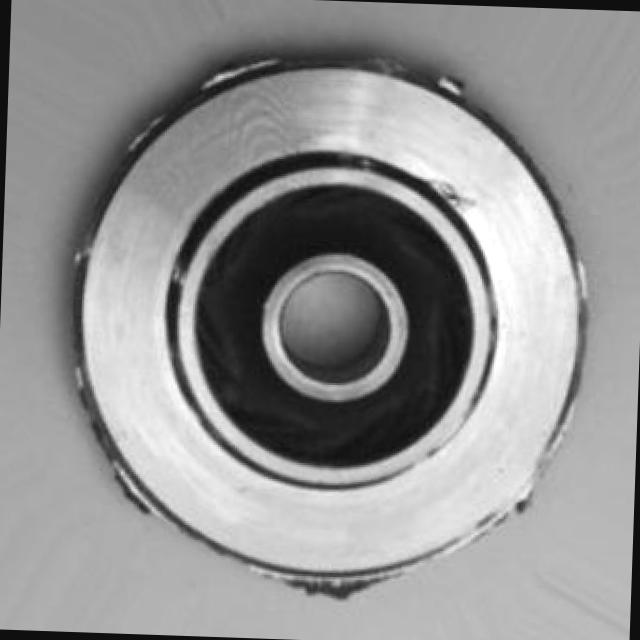Defect: (428, 170, 469, 204)
